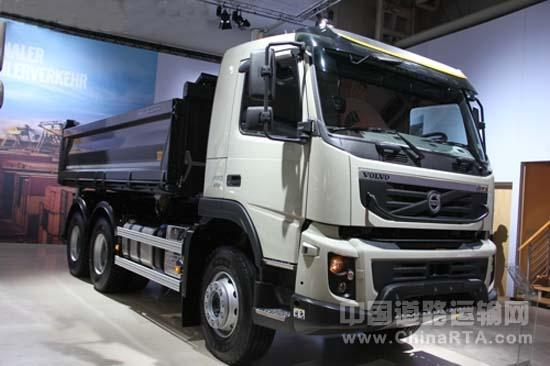truck: (41, 24, 519, 362)
